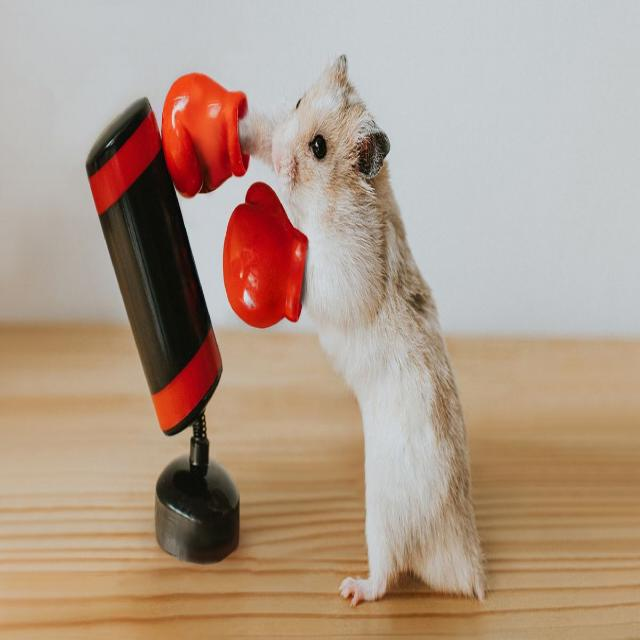hamster: (270, 57, 491, 613)
